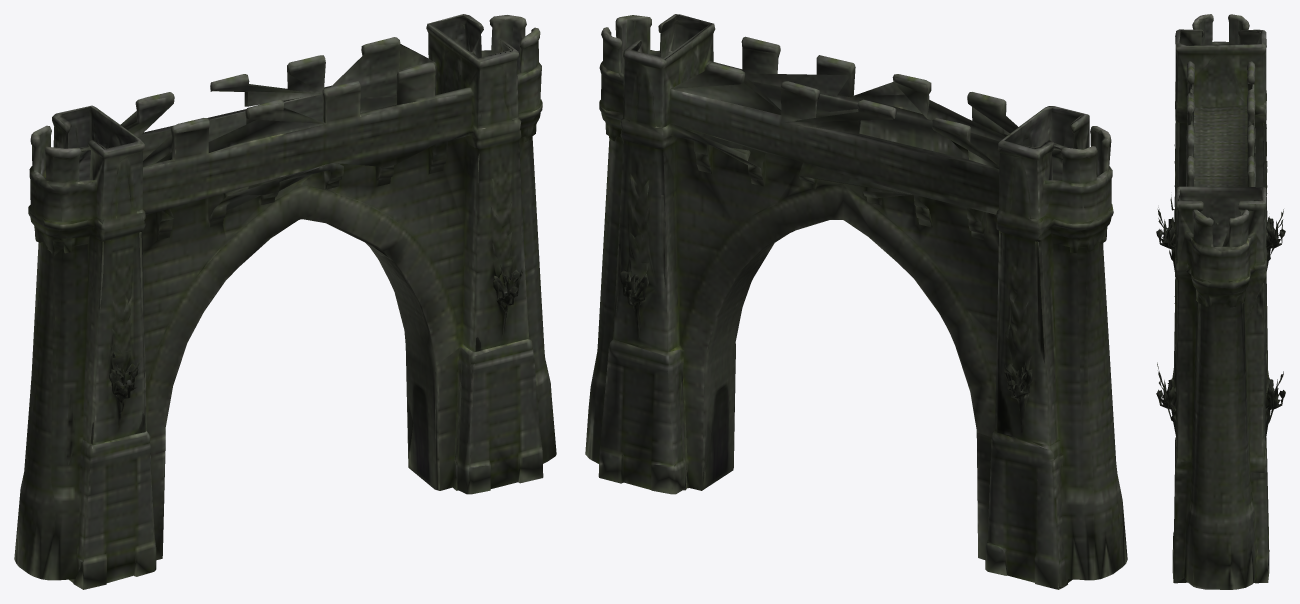
The model's file is briarhold-west-gatehouse-512.glb.
The picture shows the model from 3 angles, left to right: view 1: azimuth 30°, elevation 25°; view 2: azimuth 150°, elevation 25°; view 3: azimuth 270°, elevation 25°; orthographic projection. The views are drawn at different scales.
Visible parts, largest first — view 1: briarhold-west-gatehouse; view 2: briarhold-west-gatehouse; view 3: briarhold-west-gatehouse.
Boxes of the visible parts, box(x1,y1,x2,y2) form: briarhold-west-gatehouse: box(14, 14, 556, 589); briarhold-west-gatehouse: box(585, 14, 1127, 589); briarhold-west-gatehouse: box(1156, 14, 1285, 589).
Size of the model in its own units: 12 by 9.5 by 3.
1 material, 1 textured.
